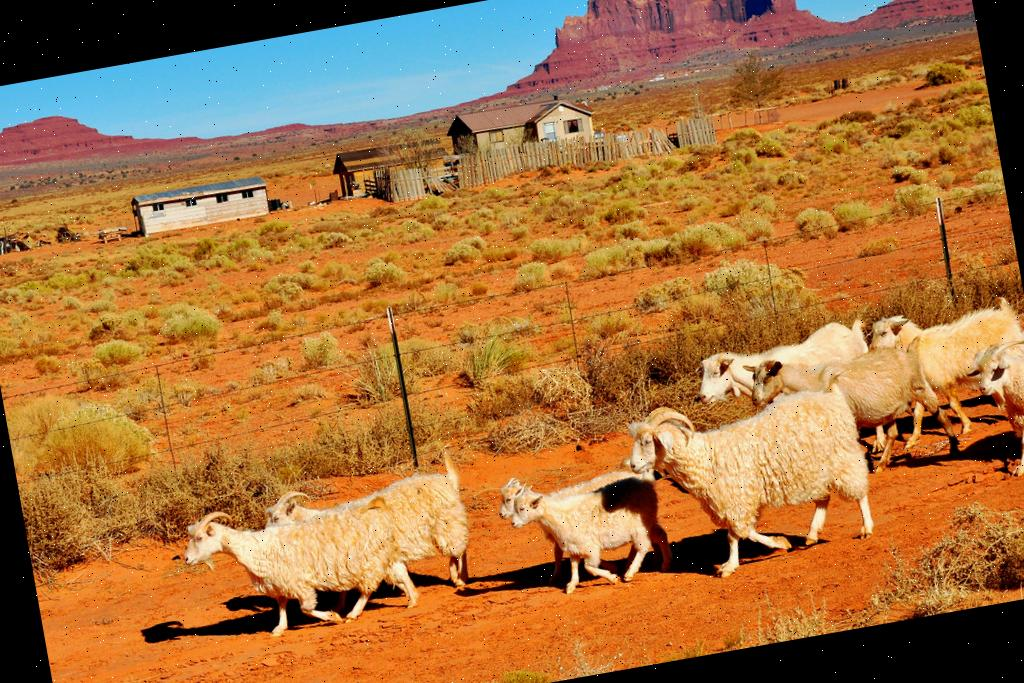Sheep: (617, 374, 881, 596), (636, 387, 899, 579), (683, 312, 884, 480), (485, 451, 670, 590), (502, 459, 682, 601), (962, 327, 1024, 480)
